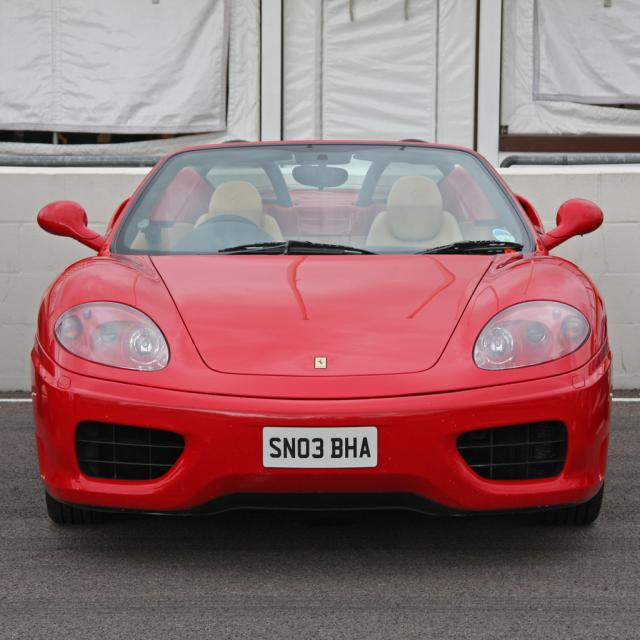other: (19, 126, 632, 537)
